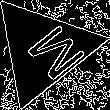M_SW: (7, 15, 80, 84)
